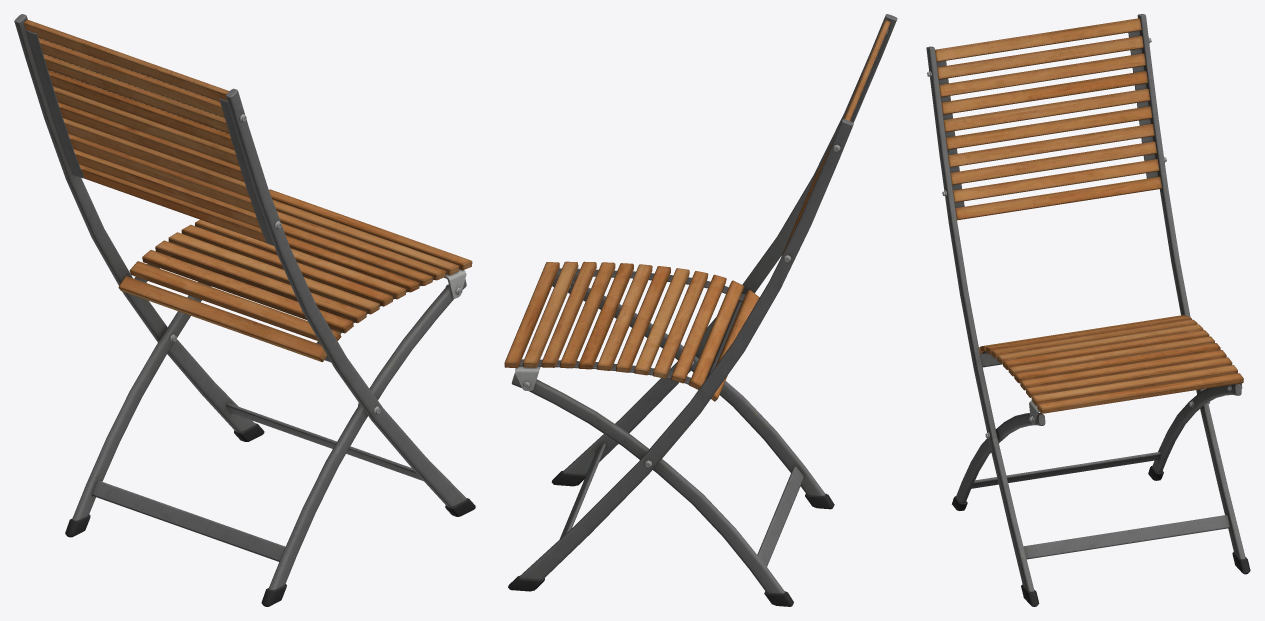
Rendered from outdoor_chair_01.glb.
3 views of the same model, side by side, from view 1: azimuth 30°, elevation 25°; view 2: azimuth 150°, elevation 25°; view 3: azimuth 270°, elevation 25° (orthographic). The views are drawn at different scales.
Parts seen in each view (by area): view 1: outdoor_table_chair_set_01_chair_01; view 2: outdoor_table_chair_set_01_chair_01; view 3: outdoor_table_chair_set_01_chair_01.
Boxes of the visible parts, x1,y1,x2,y2 form: outdoor_table_chair_set_01_chair_01: [14, 14, 475, 606]; outdoor_table_chair_set_01_chair_01: [504, 14, 897, 606]; outdoor_table_chair_set_01_chair_01: [926, 14, 1250, 606].
Bounding box in the file's own units: 0.6612 × 0.8586 × 0.5741.
1 material, 1 textured.
